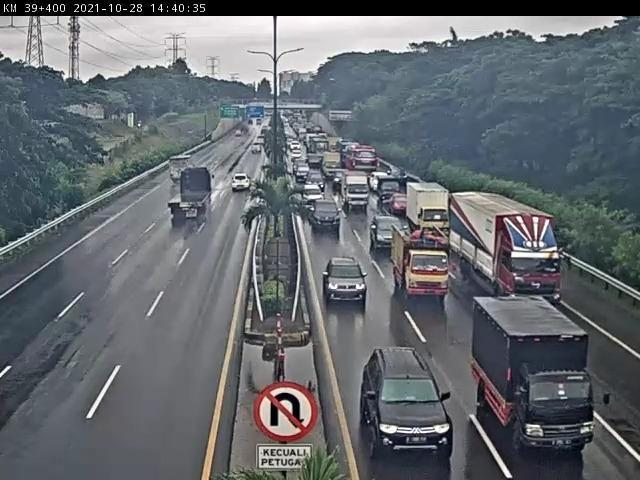car: (362, 347, 454, 456), (320, 253, 363, 297), (370, 214, 402, 246), (311, 196, 339, 227), (231, 173, 256, 193)
truck: (474, 297, 597, 453), (448, 194, 563, 308), (394, 225, 449, 297), (170, 170, 217, 221), (409, 183, 453, 235), (339, 171, 372, 208), (167, 152, 195, 184)
